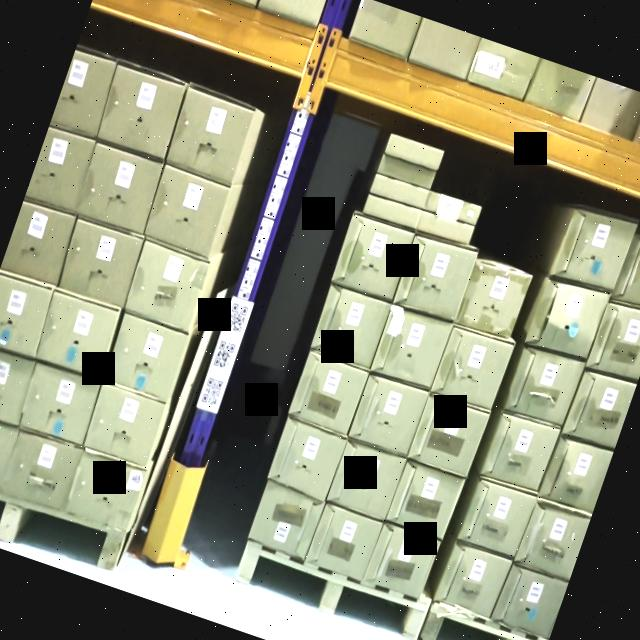box: (96, 62, 188, 158), (166, 88, 256, 185), (394, 229, 479, 321), (123, 242, 209, 332), (142, 168, 230, 254), (102, 315, 190, 401), (79, 143, 162, 233), (57, 220, 144, 304), (526, 273, 609, 361), (332, 212, 414, 301), (17, 362, 102, 446), (39, 288, 120, 375), (370, 304, 450, 390), (310, 284, 390, 368), (83, 386, 165, 467), (64, 451, 148, 530), (408, 392, 488, 474), (2, 430, 82, 512), (266, 418, 344, 500), (326, 440, 404, 521), (432, 326, 510, 407), (24, 126, 98, 211), (0, 200, 74, 285), (554, 208, 632, 288), (504, 348, 582, 428), (289, 352, 366, 432), (349, 375, 426, 455), (482, 414, 558, 494), (246, 482, 324, 558), (306, 503, 382, 581), (362, 523, 438, 601), (434, 544, 510, 620), (492, 564, 568, 640), (539, 433, 613, 510), (461, 481, 534, 558), (455, 260, 527, 338), (50, 49, 115, 134), (388, 462, 460, 538), (517, 502, 588, 578), (564, 371, 634, 446), (585, 296, 640, 384), (0, 275, 51, 356), (0, 341, 35, 427), (424, 188, 482, 226), (613, 230, 640, 310), (370, 174, 427, 210), (364, 194, 420, 227), (378, 155, 434, 188), (387, 134, 442, 166), (418, 212, 474, 242), (0, 413, 20, 487)
